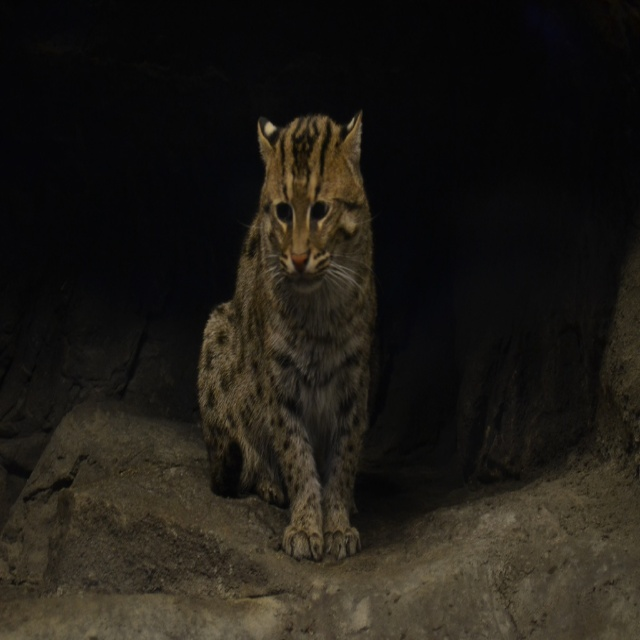Lynx: (197, 104, 381, 557)
